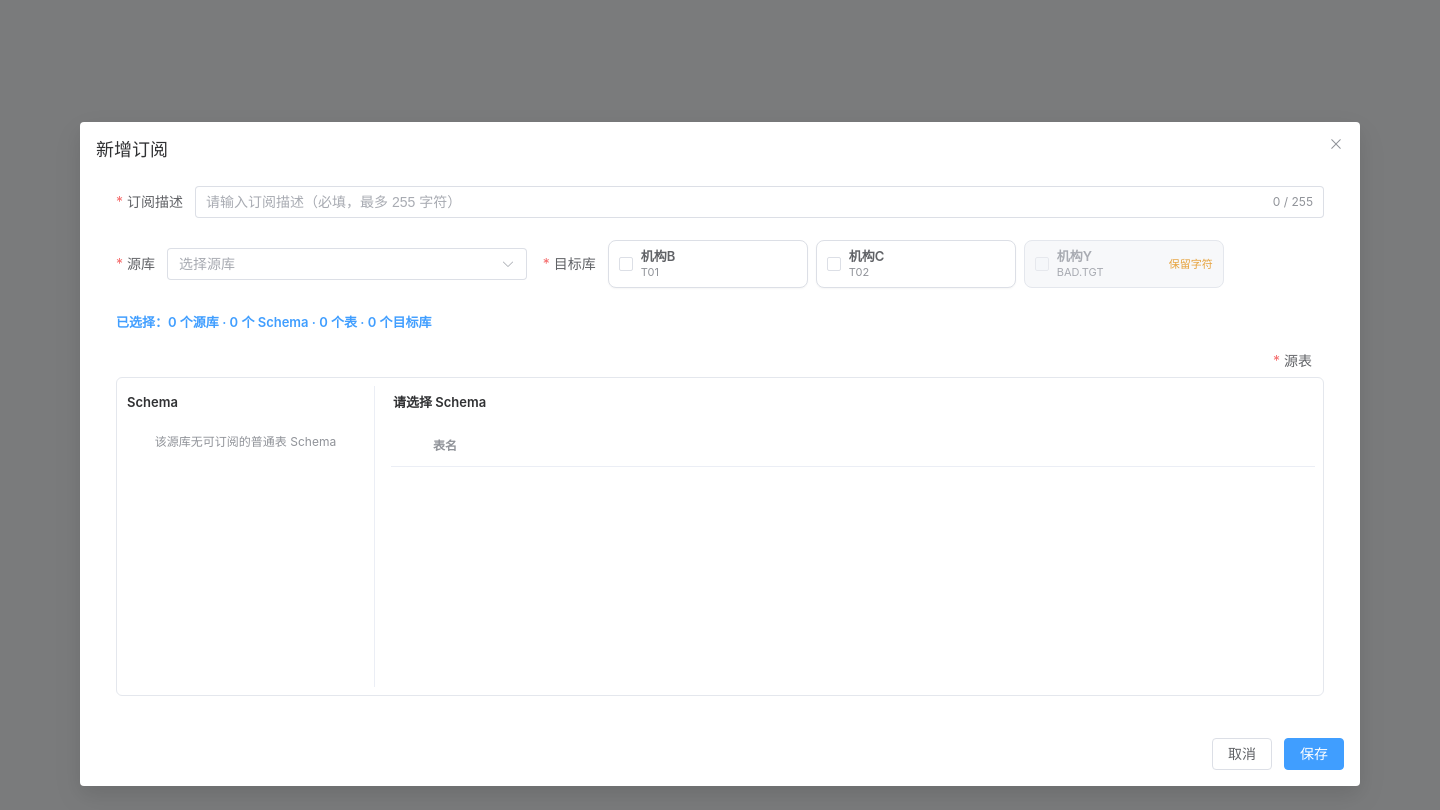
Test: SubscribeFormDialog 新增表单 › 新增必填校验：空表单保存不请求并逐项列出错误
This screenshot has width=1440, height=810.
Click the button "保存".
click(1314, 754)  # box x1=1284 y1=738 x2=1344 y2=770
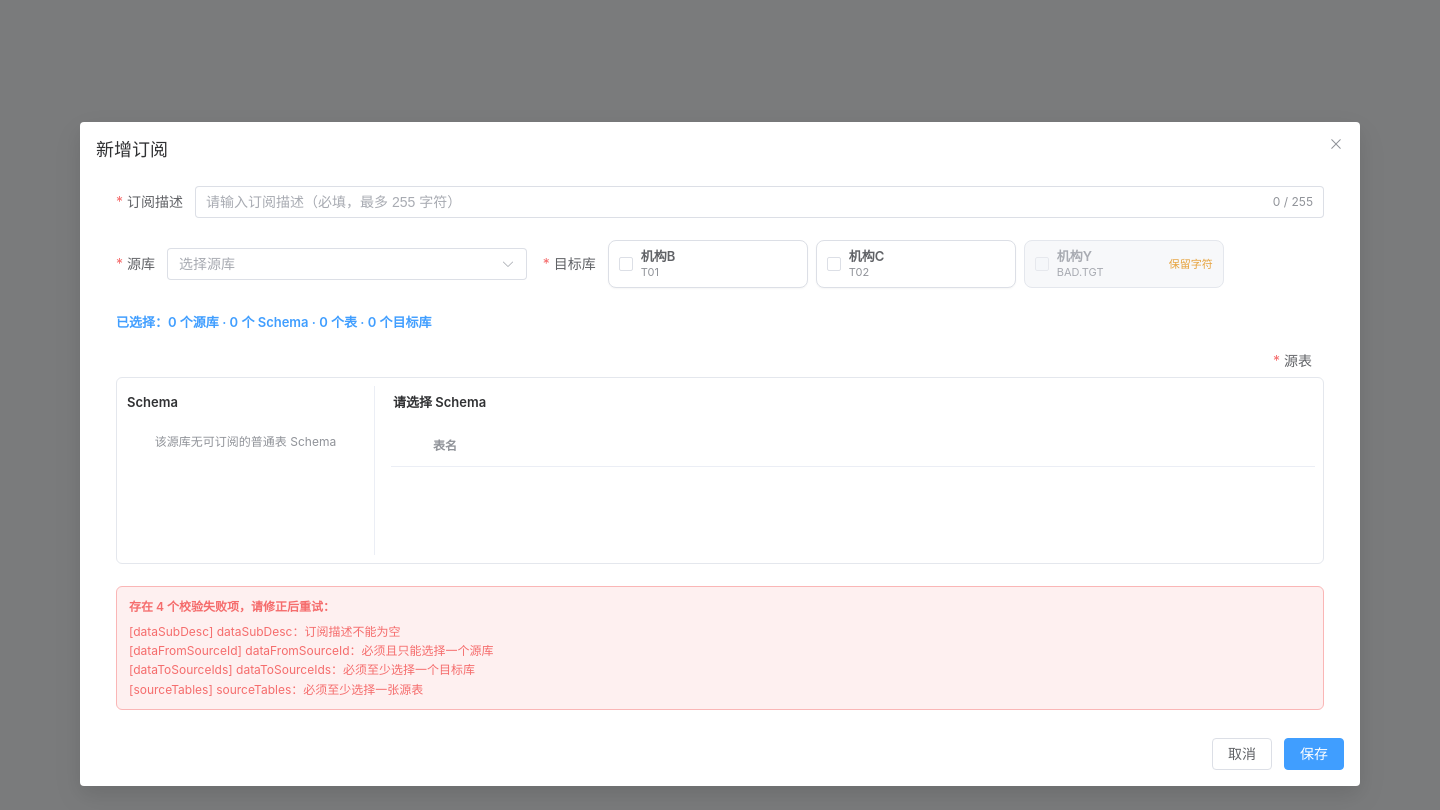
Expected: the text "订阅描述不能为空" is shown, x1=129 y1=624 x2=400 y2=639
Expected: the text "必须且只能选择一个源库" is shown, x1=129 y1=643 x2=494 y2=658
Expected: the text "必须至少选择一个目标库" is shown, x1=129 y1=662 x2=475 y2=677
